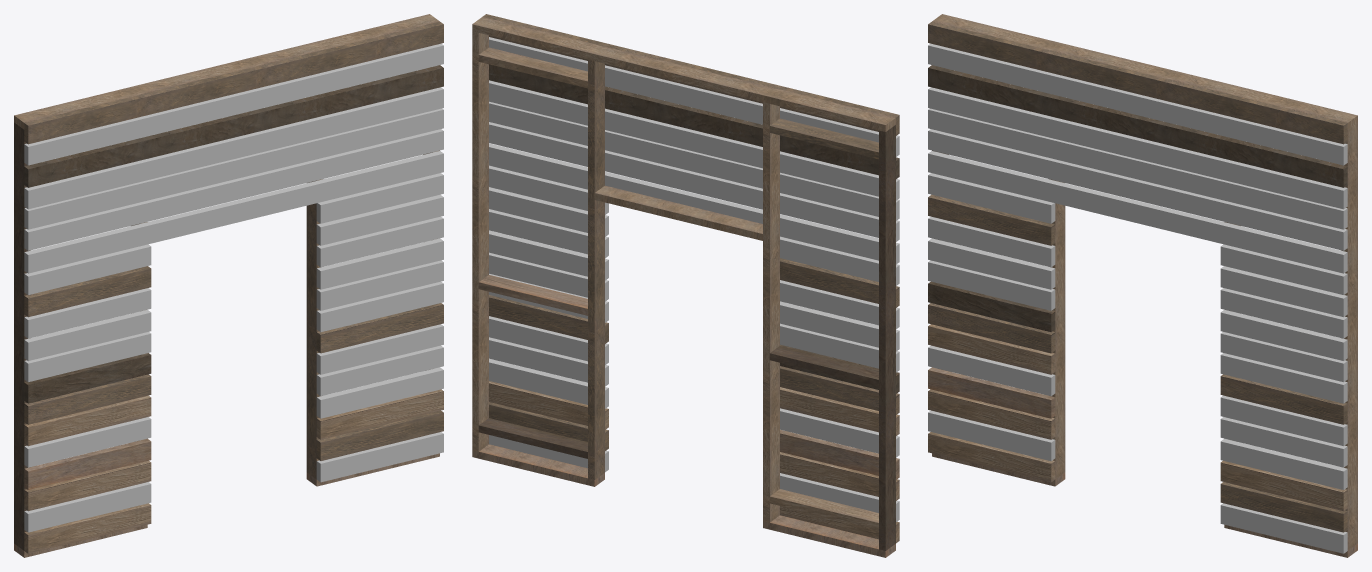
File: WallPeiceDoorwayA.fbx
The picture shows the model from 3 angles, left to right: view 1: azimuth 30°, elevation 25°; view 2: azimuth 150°, elevation 25°; view 3: azimuth 330°, elevation 25°; orthographic projection.
Visible parts, largest first — view 1: WallPeiceDoorwayA; view 2: WallPeiceDoorwayA; view 3: WallPeiceDoorwayA.
Part boxes in pixels (x1,y1,x2,y2): WallPeiceDoorwayA: [14, 14, 443, 557]; WallPeiceDoorwayA: [472, 14, 899, 557]; WallPeiceDoorwayA: [928, 14, 1357, 557].
Size of the model in its own units: 374 by 374 by 22.
